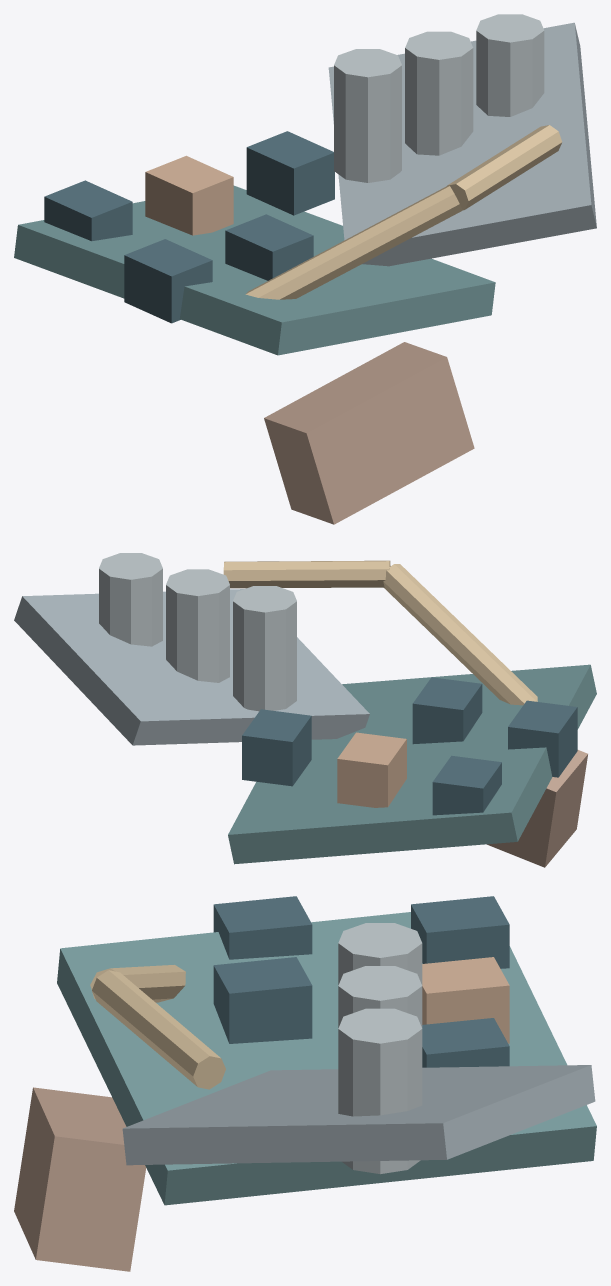
Rendered from electronics_low.gltf.
3 renders of one model, top to bottom at view 1: azimuth 30°, elevation 25°; view 2: azimuth 150°, elevation 25°; view 3: azimuth 270°, elevation 25°, orthographic. The views are drawn at different scales.
Visible parts, largest first — view 1: electronics_low; view 2: electronics_low; view 3: electronics_low.
Part boxes in pixels (x1=…): electronics_low: x1=14, y1=14, x2=596, y2=524; electronics_low: x1=14, y1=553, x2=596, y2=867; electronics_low: x1=14, y1=896, x2=596, y2=1271.
Size of the model in its own units: 1.47 by 0.8182 by 1.09.
